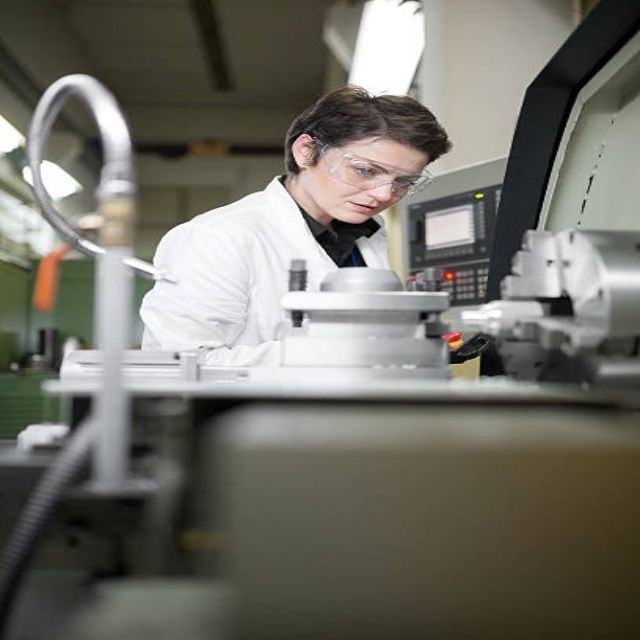Gafas: (318, 142, 433, 199)
Sin_mascara: (334, 200, 389, 221)
